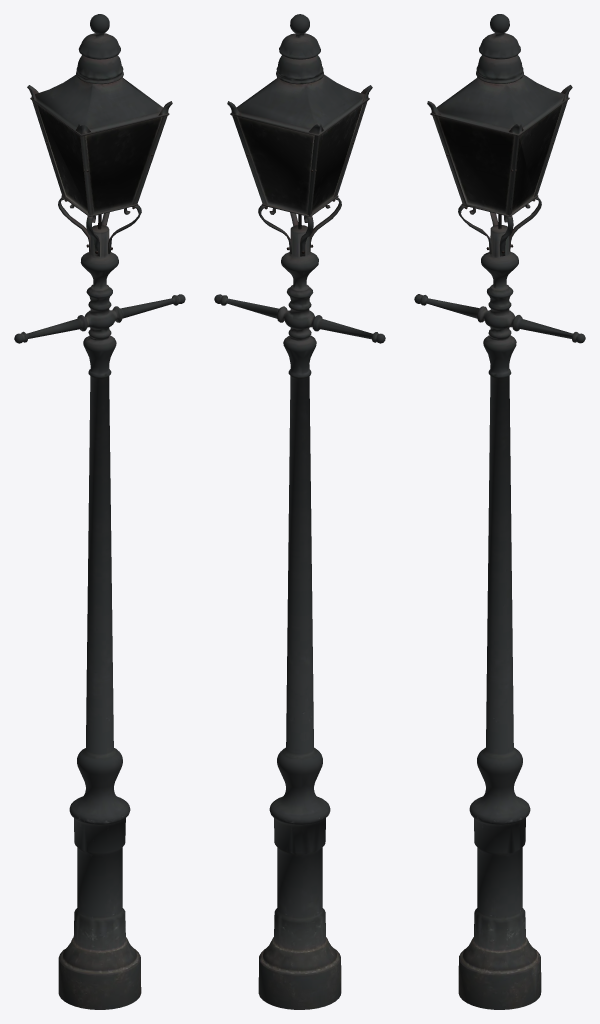
File: lamp_lo.glb
The picture shows the model from 3 angles, left to right: view 1: azimuth 30°, elevation 25°; view 2: azimuth 150°, elevation 25°; view 3: azimuth 330°, elevation 25°; orthographic projection.
Parts seen in each view (by area): view 1: street_lamp_01; view 2: street_lamp_01; view 3: street_lamp_01.
Part boxes in pixels (bbox=[...]): street_lamp_01: bbox=[14, 14, 185, 1009]; street_lamp_01: bbox=[214, 14, 385, 1009]; street_lamp_01: bbox=[414, 14, 585, 1009].
Size of the model in its own units: 0.7035 by 3.87 by 0.386.
Materials: 2 (2 with a texture image).
